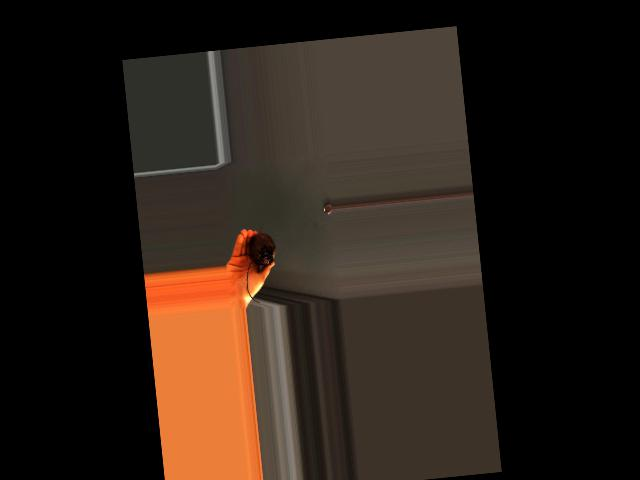beet: (240, 223, 280, 303)
